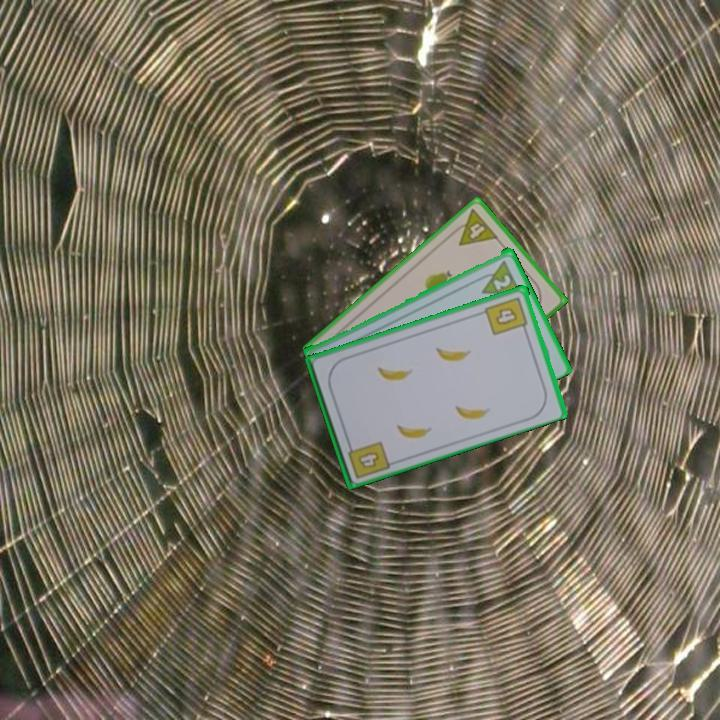2p: (489, 270, 514, 293)
4b: (482, 293, 531, 338), (354, 448, 383, 471)
4p: (447, 205, 501, 249)
